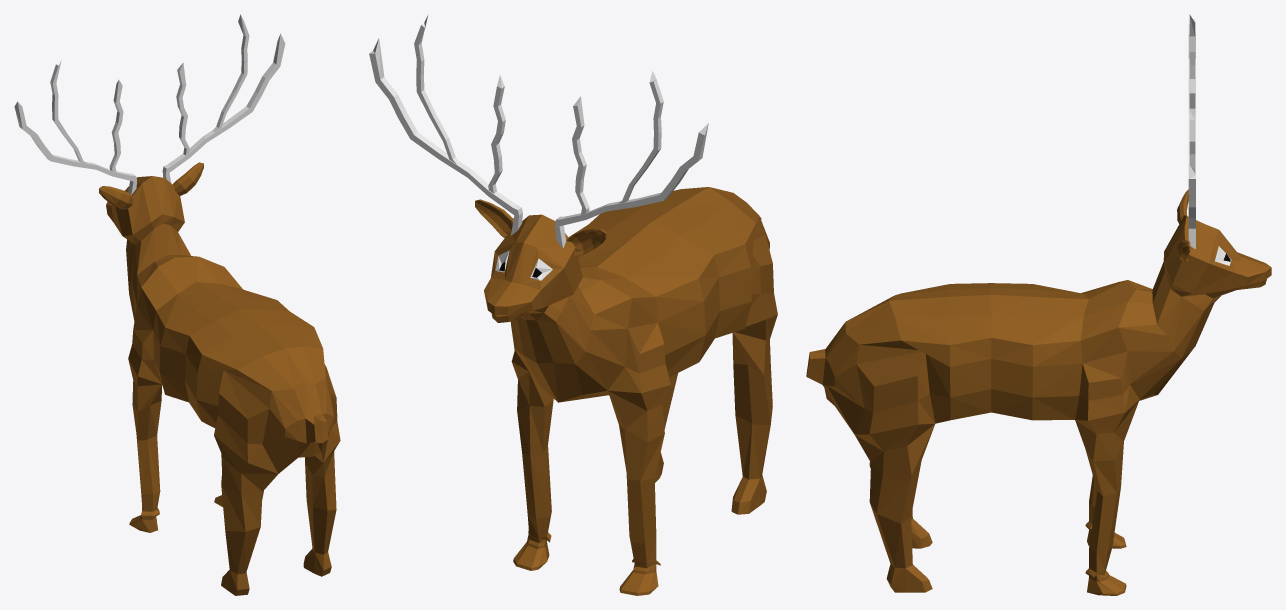
Rendered from deer.fbx.
3 renders of one model, left to right at view 1: azimuth 30°, elevation 25°; view 2: azimuth 150°, elevation 25°; view 3: azimuth 270°, elevation 25°, orthographic. The views are drawn at different scales.
Visible parts, largest first — view 1: pCube9; view 2: pCube9; view 3: pCube9.
Part boxes in pixels (left/top/right/bottom): pCube9: left=14, top=14, right=340, bottom=595; pCube9: left=369, top=15, right=777, bottom=595; pCube9: left=806, top=14, right=1271, bottom=595.
Size of the model in its own units: 16.79 by 27.09 by 22.58.
